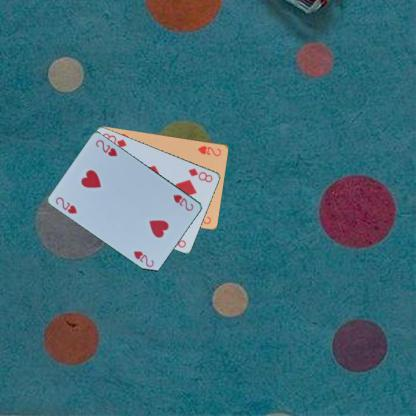2h: (53, 194, 79, 215), (170, 192, 195, 212), (196, 143, 223, 157)
8d: (186, 165, 214, 184)
